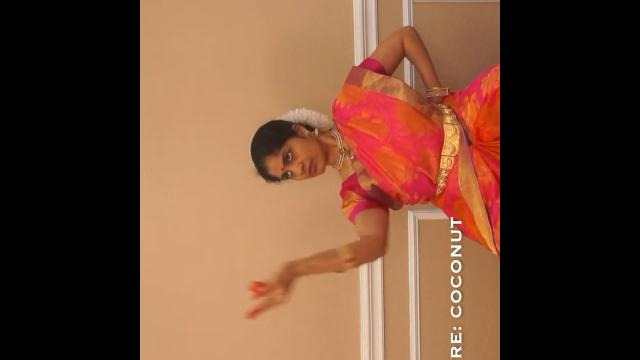kangul: (224, 244, 308, 338)
